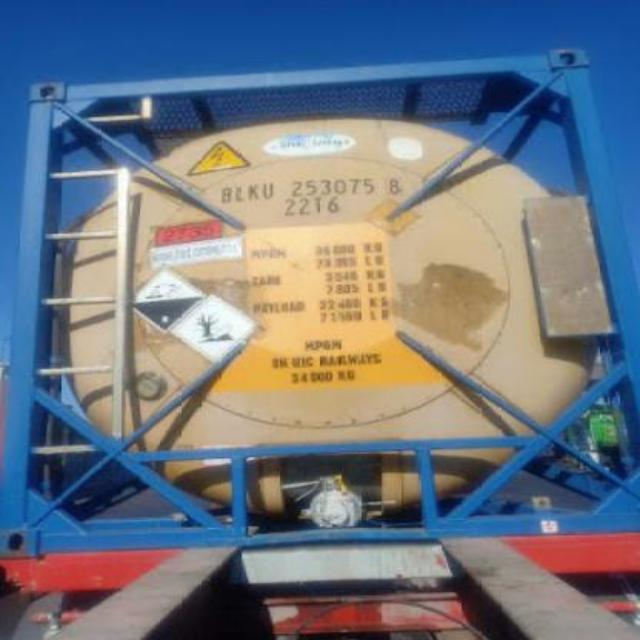0: (334, 173, 346, 197)
2: (288, 174, 300, 198)
3: (318, 176, 334, 198)
5: (358, 173, 376, 197), (304, 176, 318, 197)
7: (344, 168, 360, 198)
8: (384, 174, 402, 198)
B: (220, 180, 232, 204)
K: (247, 180, 260, 204)
L: (232, 180, 244, 203)
U: (260, 178, 274, 204)
